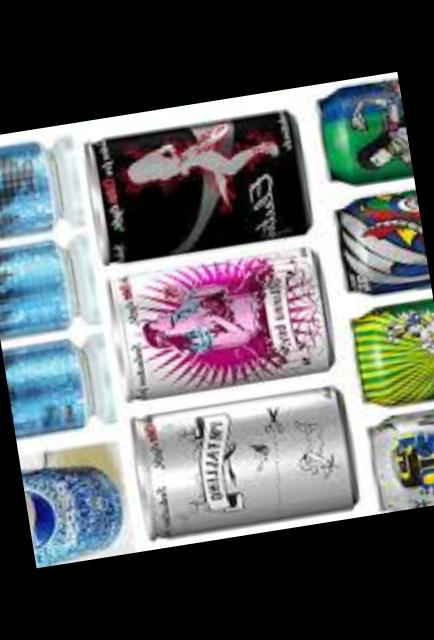metal: (86, 112, 306, 262), (112, 249, 328, 399), (132, 389, 352, 536), (318, 80, 414, 183), (21, 468, 119, 568), (336, 191, 431, 294), (350, 299, 434, 404), (2, 342, 86, 436), (0, 243, 70, 339), (370, 410, 434, 512), (0, 144, 52, 237)
